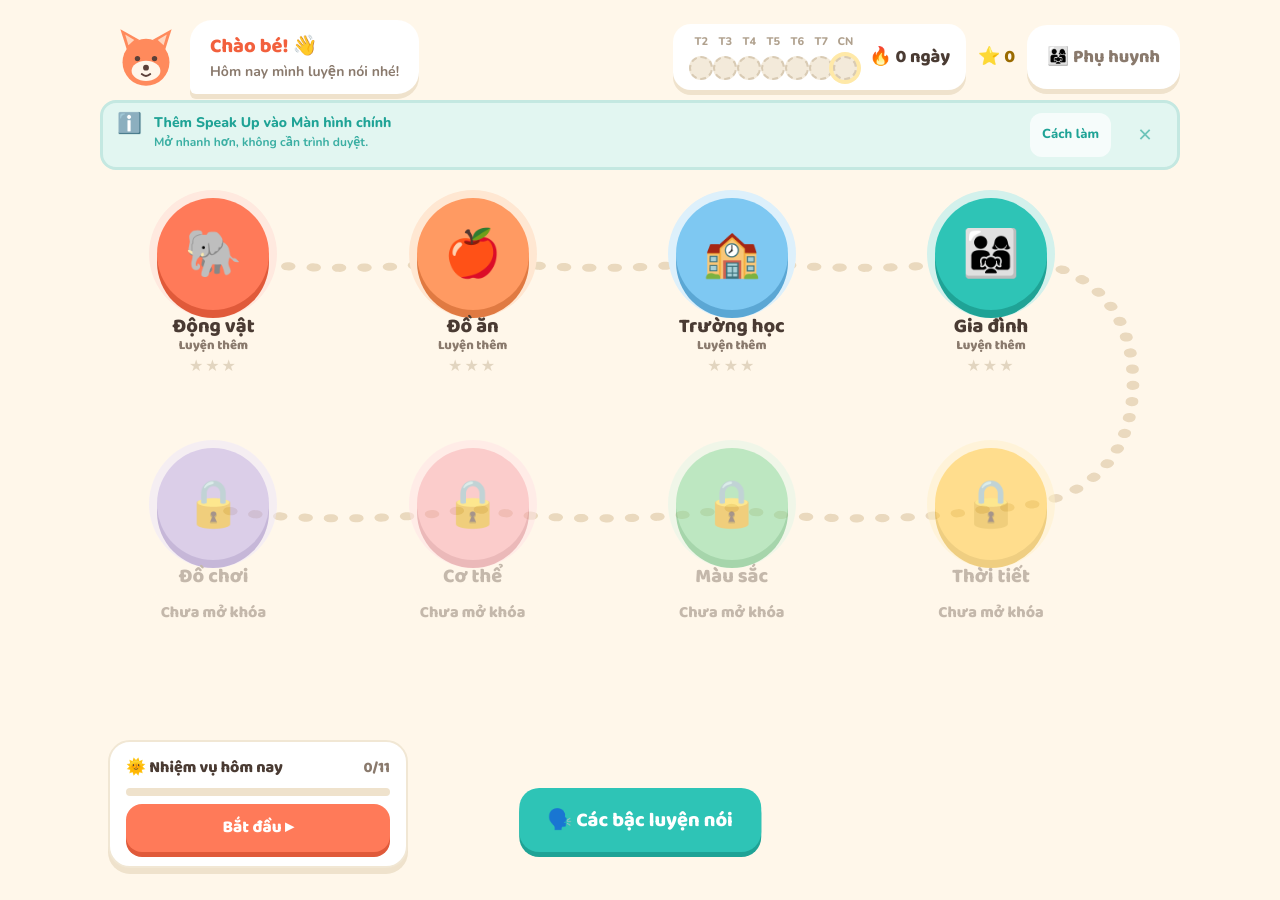
Test: Phase 11: the Add-to-Home-Screen nudge › is dismissible, once, for good
The image size is (1280, 900).
What coordinates should you click on to do the following:
click the button named "Đóng"
I would click on:
 (1145, 135)
Its box is [1123,113,1167,157].
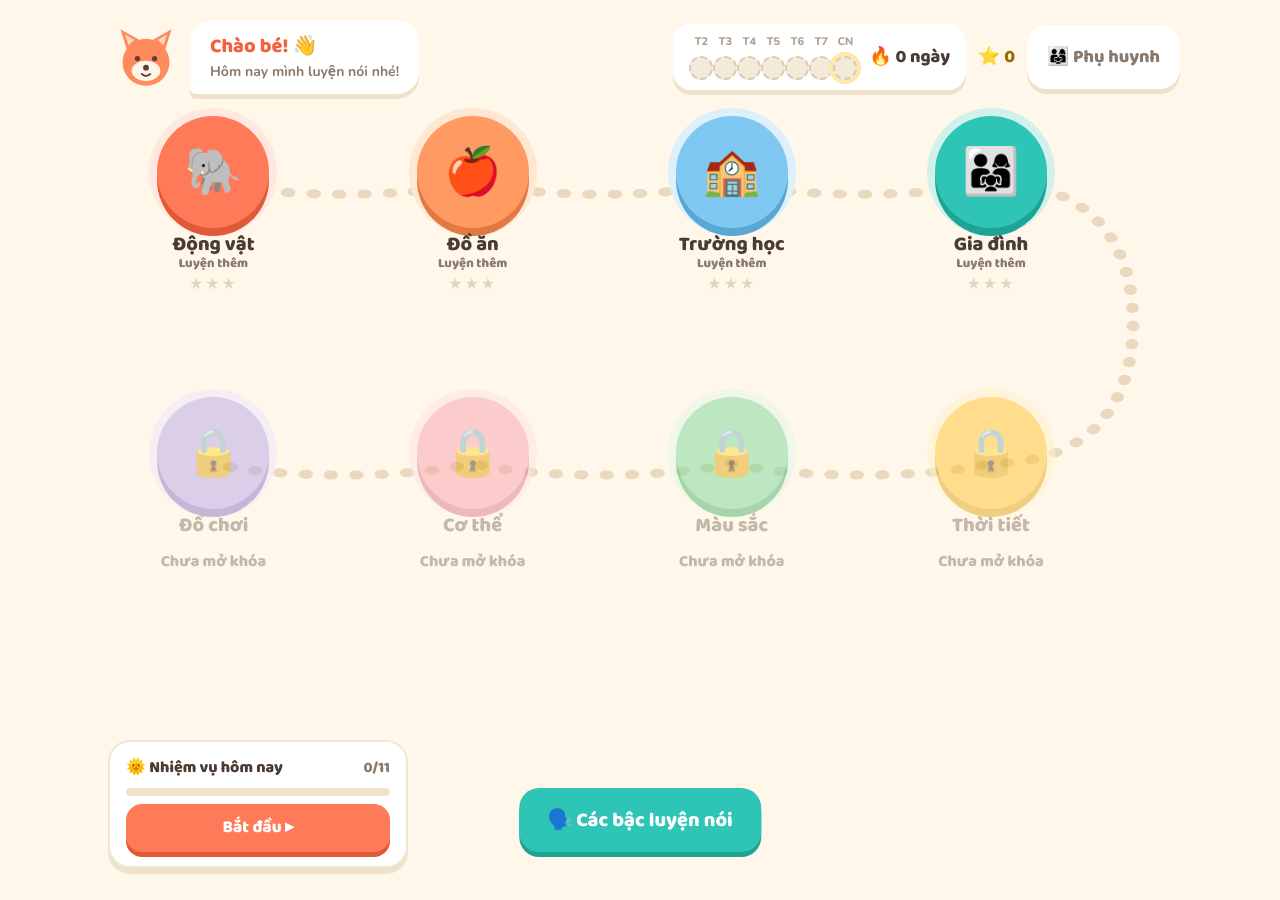
Result: the message with test id "a2hs-banner" is gone
